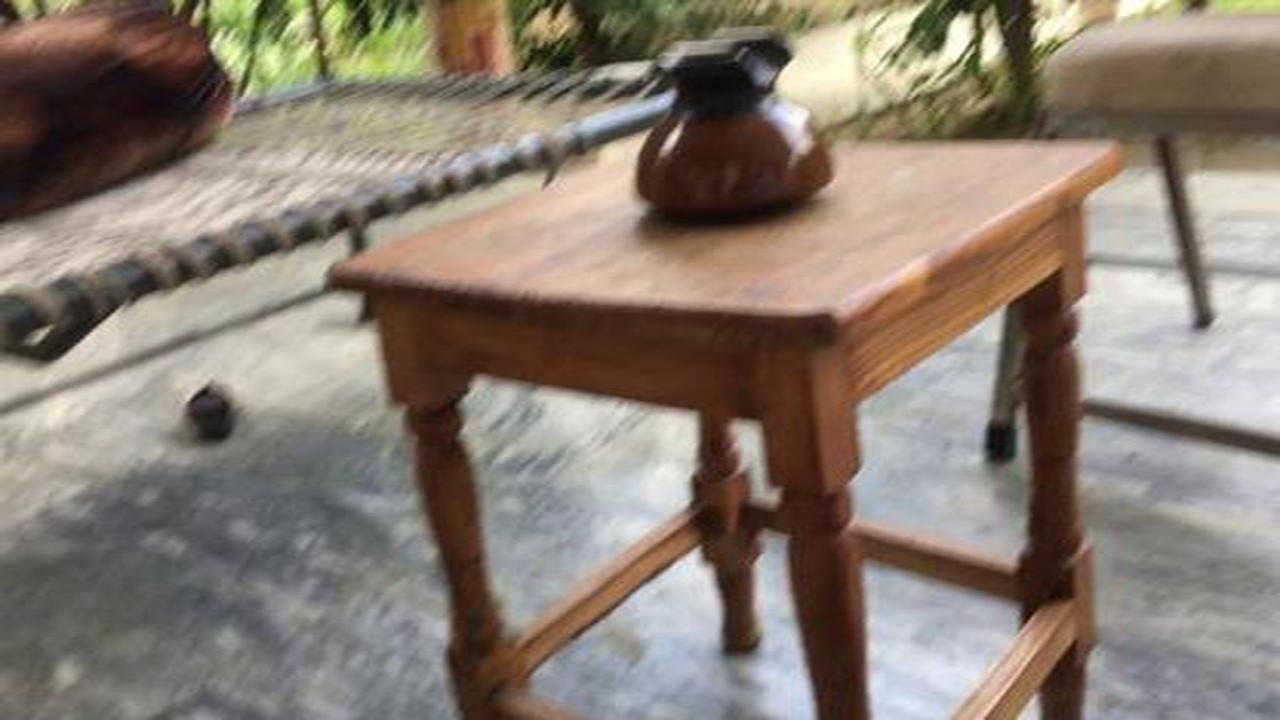insulator_pin: (601, 30, 868, 224)
